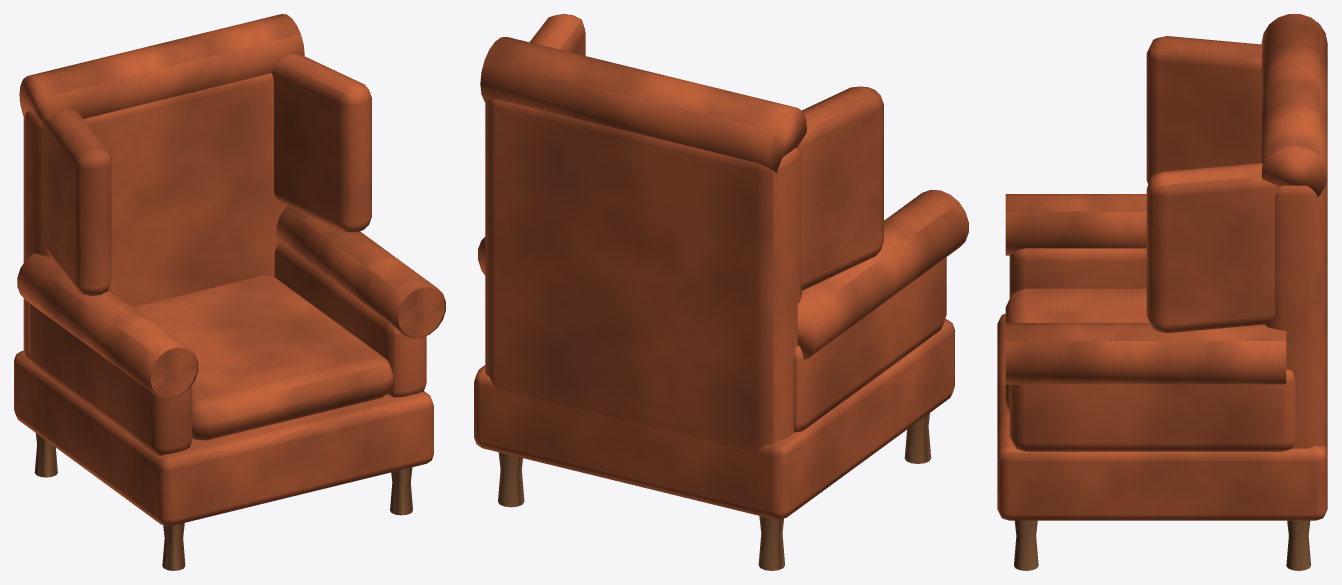
File: wingback_chair.glb
3 renders of one model, left to right at view 1: azimuth 30°, elevation 25°; view 2: azimuth 150°, elevation 25°; view 3: azimuth 270°, elevation 25°, orthographic. The views are drawn at different scales.
Parts seen in each view (by area): view 1: model; view 2: model; view 3: model.
Boxes of the visible parts, left/top/right/bottom form: model: left=14, top=14, right=445, bottom=570; model: left=474, top=14, right=968, bottom=570; model: left=997, top=14, right=1327, bottom=570.
Size of the model in its own units: 0.8877 by 1.14 by 0.8.
Materials: 2 (2 with a texture image).
